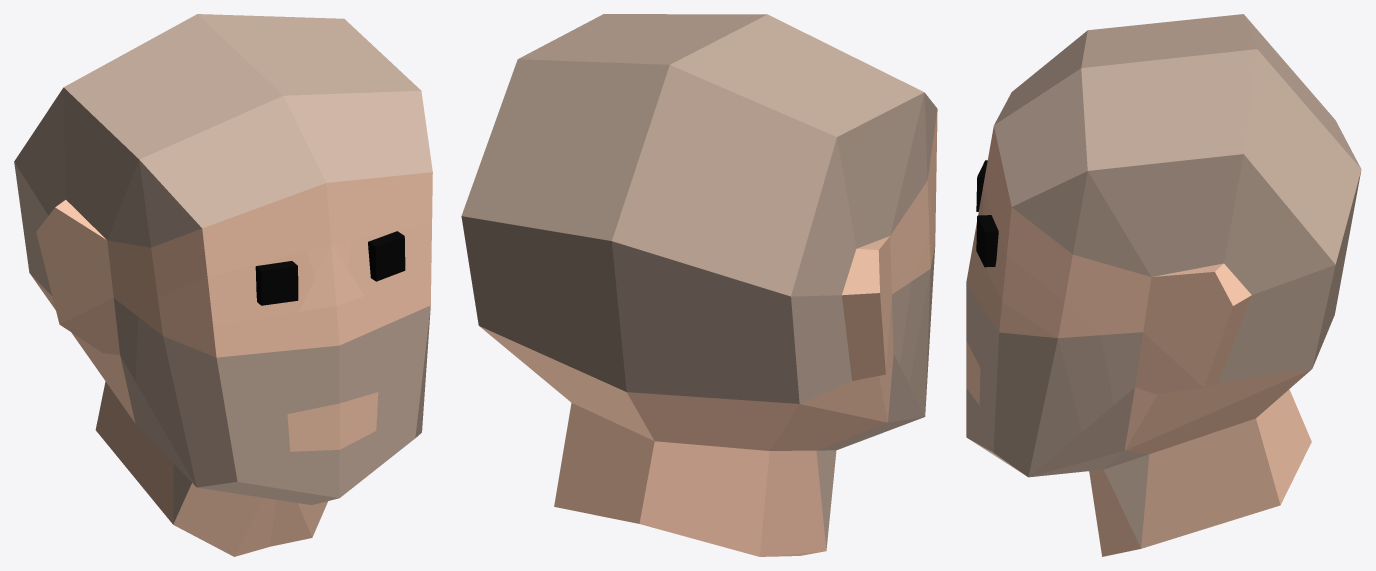
The model's file is Chr_Head_Male_11_Static.fbx.
3 views of the same model, side by side, from view 1: azimuth 30°, elevation 25°; view 2: azimuth 150°, elevation 25°; view 3: azimuth 270°, elevation 25° (orthographic). The views are drawn at different scales.
Visible parts, largest first — view 1: Chr_Head_Male_11_Static; view 2: Chr_Head_Male_11_Static; view 3: Chr_Head_Male_11_Static.
Part boxes in pixels (bbox=[...]): Chr_Head_Male_11_Static: bbox=[14, 14, 432, 556]; Chr_Head_Male_11_Static: bbox=[461, 14, 937, 556]; Chr_Head_Male_11_Static: bbox=[966, 14, 1361, 556].
Size of the model in its own units: 0.2661 by 0.3523 by 0.2574.
